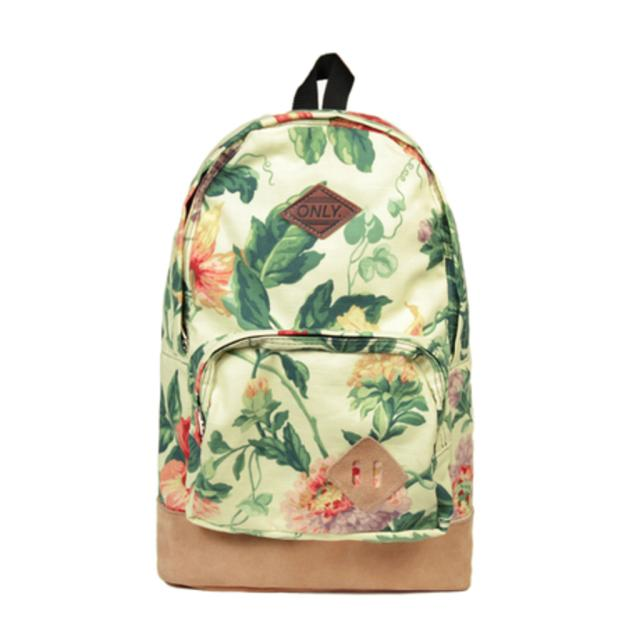backpack: (154, 48, 475, 593)
